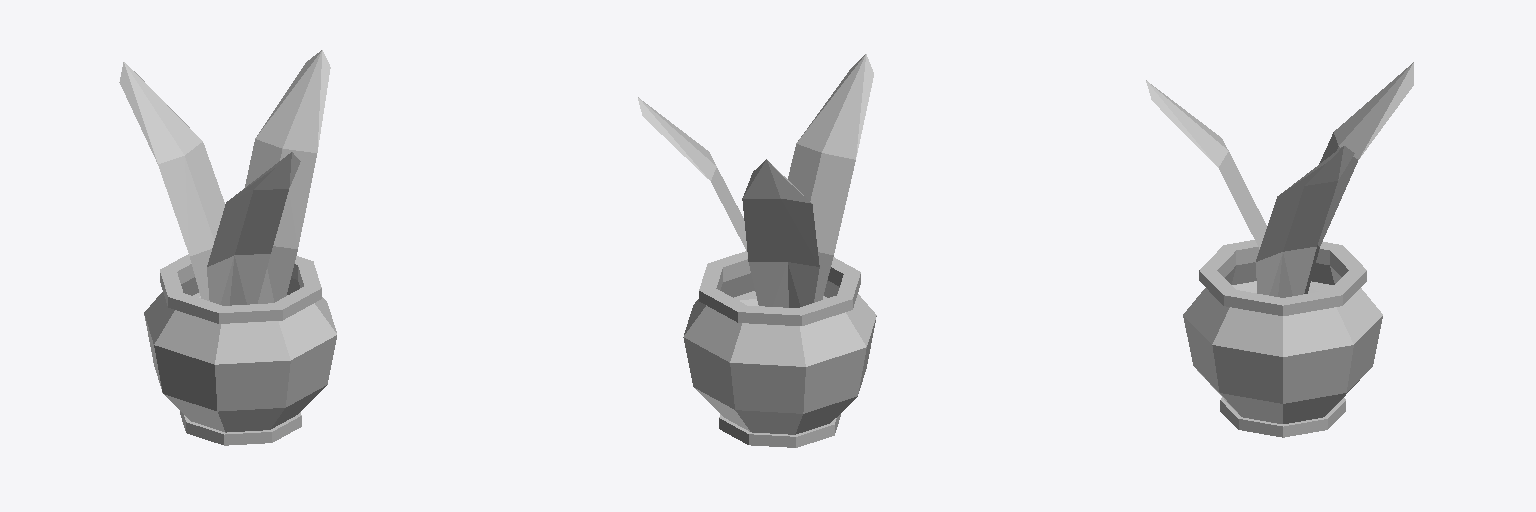
Rendered from plant.obj.
The picture shows the model from 3 angles: view 1: azimuth 30°, elevation 25°; view 2: azimuth 150°, elevation 25°; view 3: azimuth 270°, elevation 25°; orthographic projection.
Visible parts, largest first — view 1: pCylinder12; view 2: pCylinder12; view 3: pCylinder12.
Part boxes in pixels (bbox=[...]): pCylinder12: bbox=[119, 50, 336, 445]; pCylinder12: bbox=[638, 54, 876, 447]; pCylinder12: bbox=[1146, 62, 1413, 437].
Size of the model in its own units: 46.42 by 71.43 by 53.75.